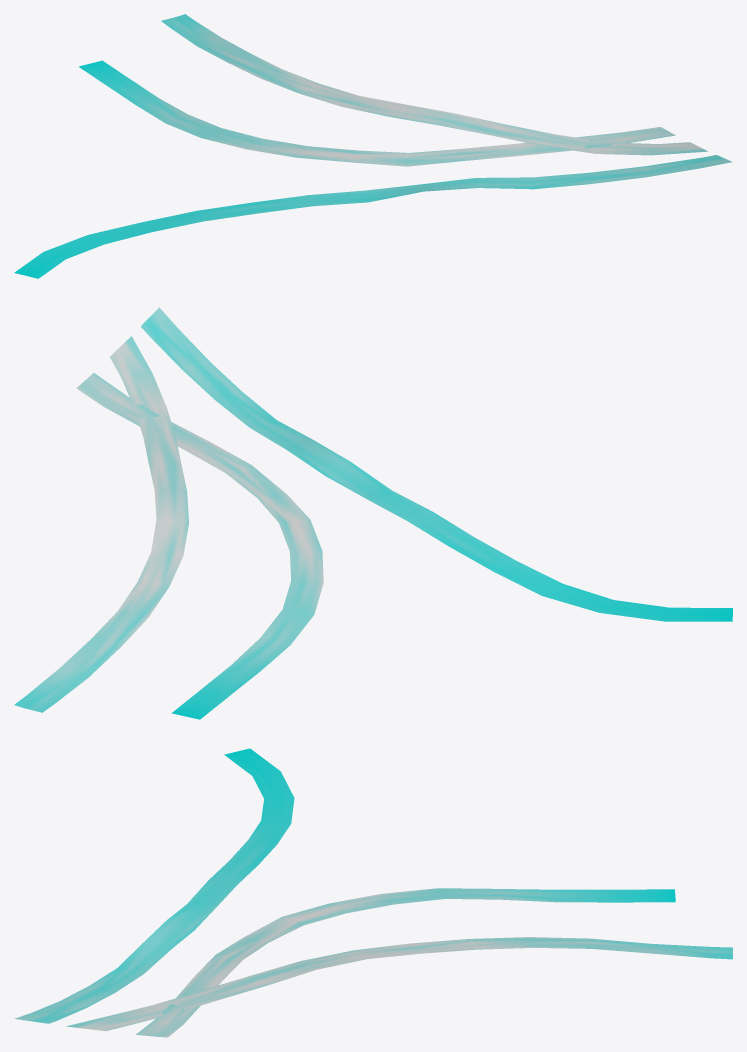
3 views of the same model, one above another, from view 1: azimuth 30°, elevation 25°; view 2: azimuth 150°, elevation 25°; view 3: azimuth 270°, elevation 25° (orthographic). The views are drawn at different scales.
Parts seen in each view (by area): view 1: SpaceCenter_Long3_GenerateRoad_Sand_TireTracks_Width_Mesh_x1; view 2: SpaceCenter_Long3_GenerateRoad_Sand_TireTracks_Width_Mesh_x1; view 3: SpaceCenter_Long3_GenerateRoad_Sand_TireTracks_Width_Mesh_x1.
Boxes of the visible parts, x1,y1,x2,y2 form: SpaceCenter_Long3_GenerateRoad_Sand_TireTracks_Width_Mesh_x1: (14, 14, 732, 278); SpaceCenter_Long3_GenerateRoad_Sand_TireTracks_Width_Mesh_x1: (14, 307, 732, 719); SpaceCenter_Long3_GenerateRoad_Sand_TireTracks_Width_Mesh_x1: (14, 748, 732, 1037).
Size of the model in its own units: 856 by 892 by 67.27.
